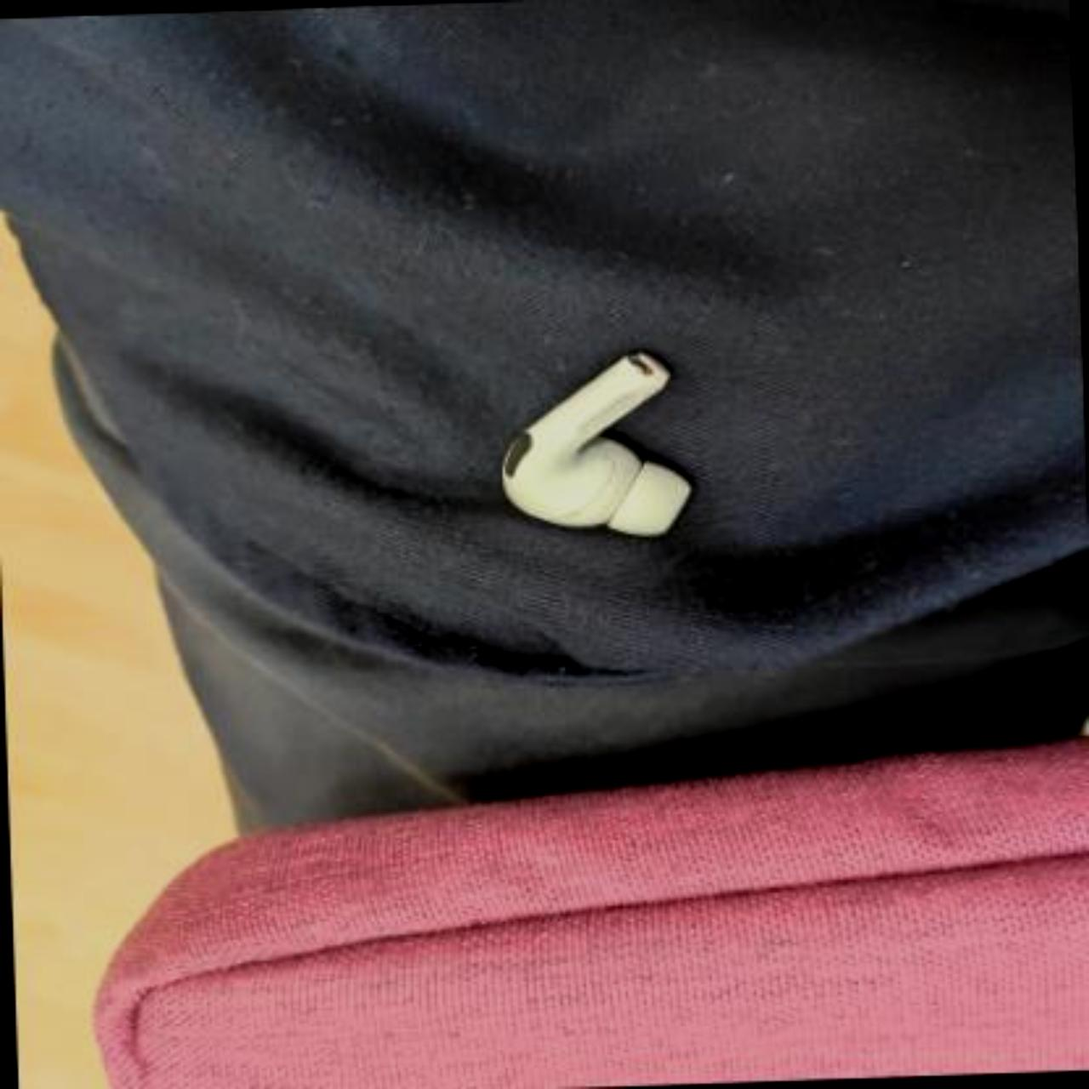Airpods_Units: (449, 312, 768, 568)
